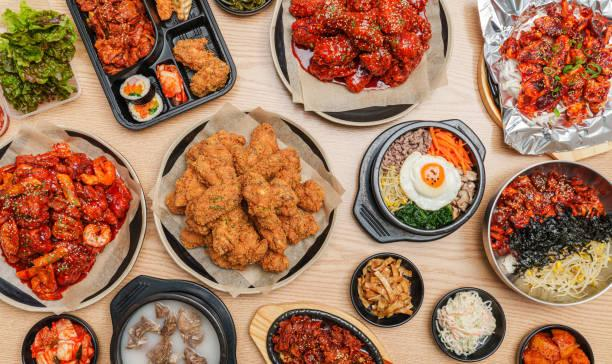Braised Crucian Carp: (154, 102, 340, 293), (1, 122, 146, 312), (61, 0, 231, 131), (271, 0, 444, 128), (476, 1, 607, 156), (482, 159, 607, 304), (355, 117, 485, 244), (211, 0, 275, 15)
